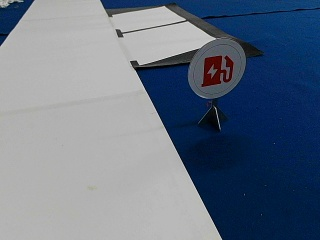battery: (187, 38, 245, 99)
